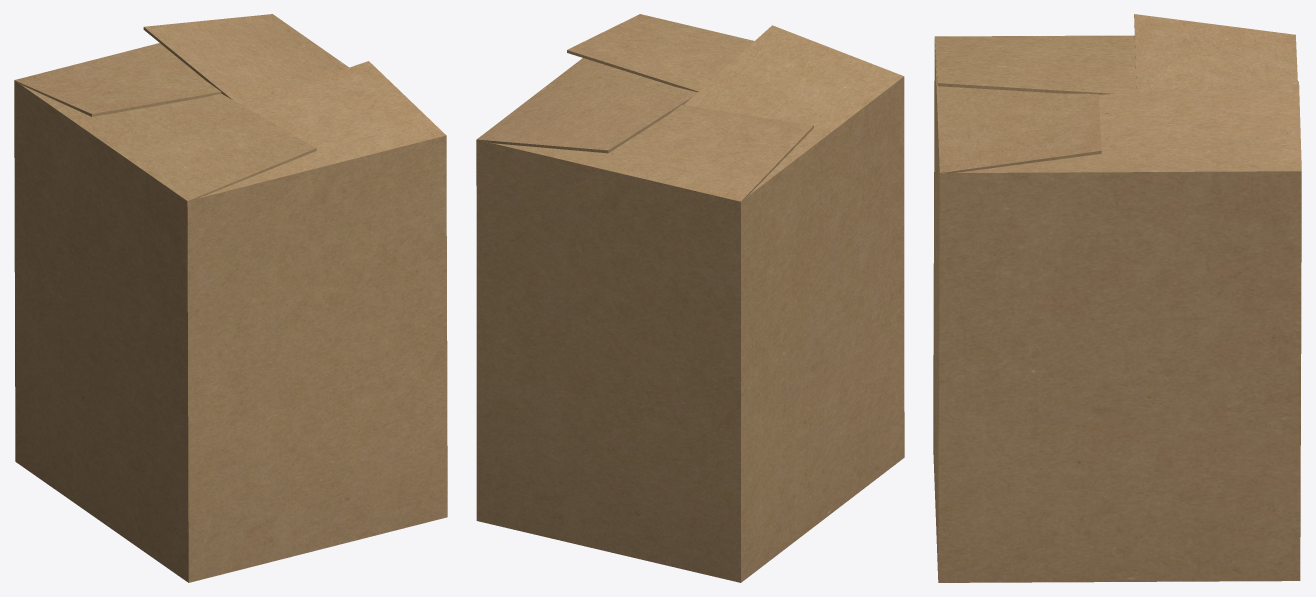
File: Cardbox_closed01.FBX
The picture shows the model from 3 angles, left to right: view 1: azimuth 30°, elevation 25°; view 2: azimuth 150°, elevation 25°; view 3: azimuth 270°, elevation 25°; orthographic projection. The views are drawn at different scales.
Parts seen in each view (by area): view 1: Cardbox_closed01; view 2: Cardbox_closed01; view 3: Cardbox_closed01.
Part boxes in pixels (x1,y1,x2,y2): Cardbox_closed01: [14, 14, 447, 582]; Cardbox_closed01: [476, 14, 904, 582]; Cardbox_closed01: [933, 14, 1301, 582].
Bounding box in the file's own units: 0.8434 × 1.21 × 0.9397.
